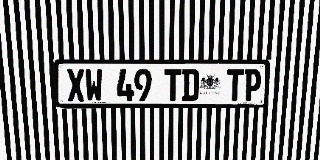4: (116, 69, 134, 102)
9: (134, 69, 152, 101)
D: (182, 69, 199, 101)
P: (243, 69, 262, 101)
T: (164, 69, 182, 101), (226, 69, 244, 101)
W: (85, 69, 103, 102)
X: (66, 69, 85, 102)
